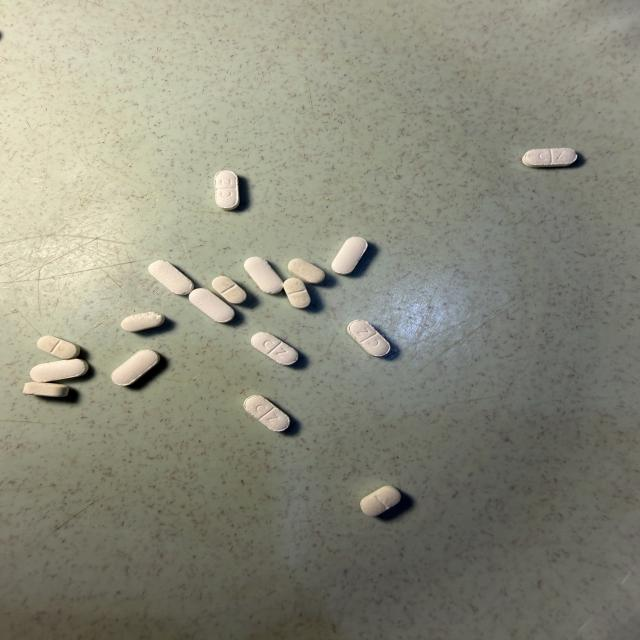pill: (112, 350, 159, 386), (244, 396, 289, 431), (251, 332, 298, 365), (347, 320, 390, 356), (149, 260, 193, 295), (189, 289, 234, 322), (244, 257, 283, 294), (30, 359, 88, 382), (332, 237, 367, 274), (361, 486, 401, 516), (522, 148, 577, 167), (37, 336, 80, 359), (215, 170, 239, 210), (212, 276, 246, 304), (288, 259, 325, 284), (121, 312, 165, 331), (284, 278, 310, 308), (23, 382, 69, 397)
